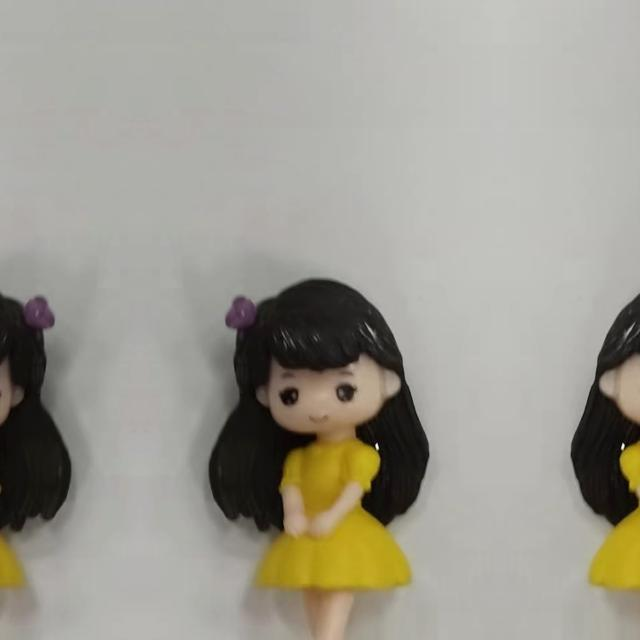woman dress: (262, 427, 407, 640), (592, 427, 640, 640), (0, 427, 17, 640)
woman head: (214, 271, 406, 443), (0, 271, 66, 443), (594, 271, 640, 443)
